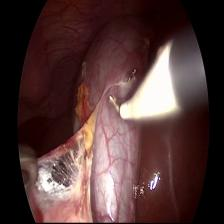Hook: (106, 30, 184, 126)
